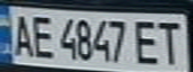4: (54, 15, 78, 61), (90, 16, 112, 62)
7: (109, 16, 133, 64)
8: (72, 16, 93, 62)
A: (6, 10, 36, 58)
E: (130, 17, 166, 66), (30, 11, 57, 60)
T: (154, 17, 187, 66)
